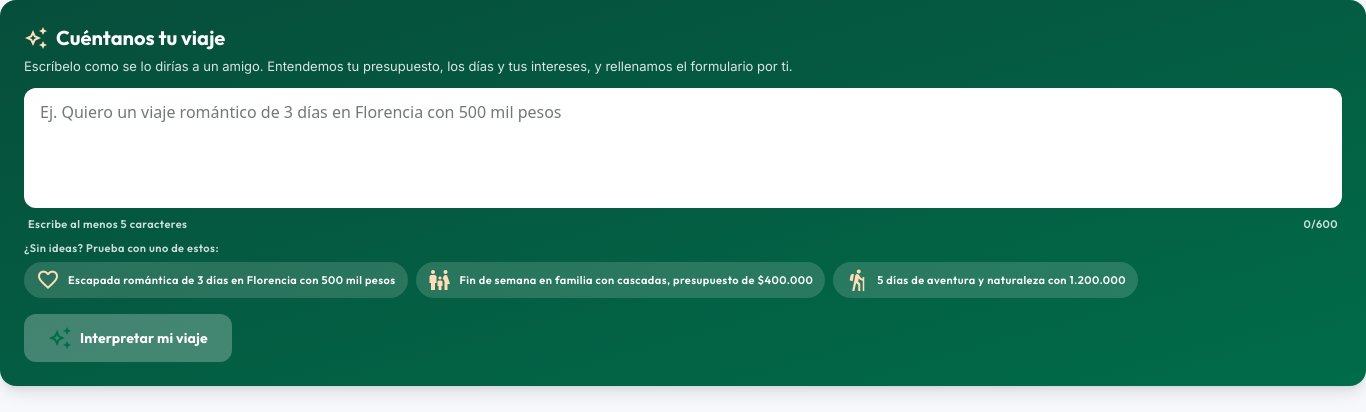
Scenario: InterpretarViaje › los ejemplos rellenan el cuadro de texto
Step 1. Click the button "Fin de semana en familia" → {"x": 620, "y": 280}, box 416,262 -> 825,298
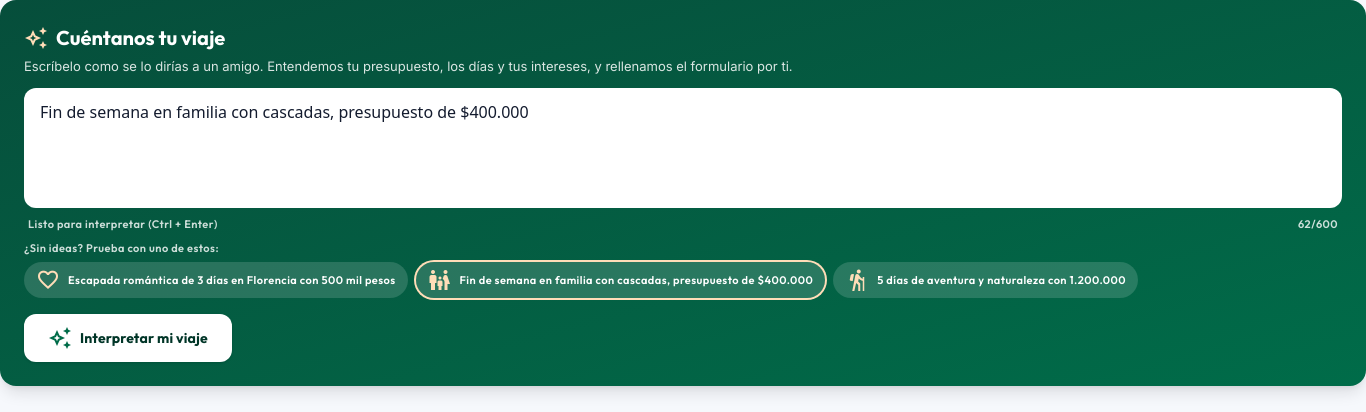
Result: the text box with placeholder "viaje romántico" holds "Fin de semana en familia con cascadas, presupuesto de $400.000" at 24,88 -> 1342,208
